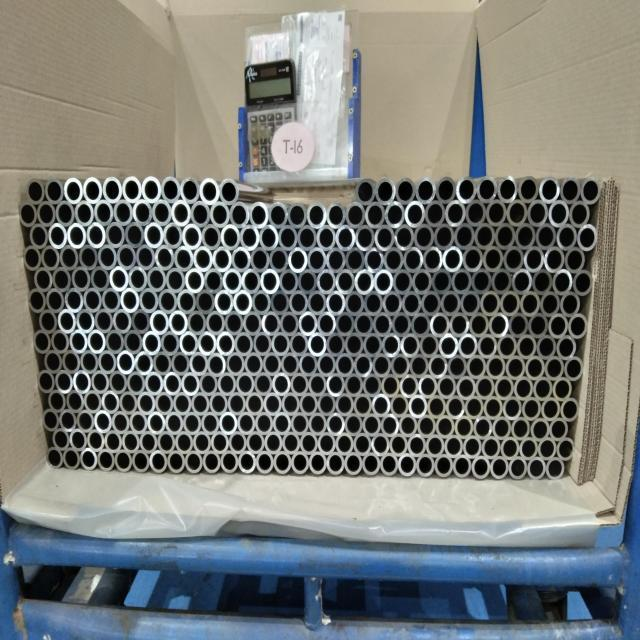pipe: (506, 198, 528, 228), (527, 198, 549, 228), (548, 199, 570, 229), (535, 222, 557, 251), (556, 223, 578, 252), (543, 245, 565, 274), (517, 175, 539, 204), (538, 175, 560, 204), (435, 176, 457, 205), (569, 199, 590, 229), (405, 199, 426, 229), (454, 222, 475, 252), (576, 223, 597, 253), (560, 176, 581, 206), (445, 200, 467, 228), (482, 245, 504, 273), (476, 176, 498, 204), (465, 198, 486, 227), (486, 198, 507, 227), (425, 199, 446, 228), (190, 200, 211, 229), (385, 200, 406, 229), (365, 200, 386, 229), (287, 201, 308, 230), (495, 222, 516, 251), (474, 222, 495, 251), (434, 222, 455, 251), (515, 222, 536, 251), (414, 223, 435, 252), (394, 223, 415, 252), (374, 223, 395, 252), (462, 245, 483, 274), (442, 245, 463, 274), (503, 245, 524, 274), (523, 245, 544, 274), (564, 246, 585, 275), (497, 175, 518, 204), (456, 176, 477, 205), (581, 176, 602, 205), (415, 176, 436, 205), (395, 177, 416, 206), (375, 177, 396, 206), (355, 176, 375, 206), (25, 177, 45, 207), (422, 246, 443, 274), (532, 268, 553, 296), (460, 289, 481, 317), (480, 289, 501, 317), (133, 198, 153, 227), (171, 198, 191, 227), (94, 198, 114, 227), (74, 199, 94, 228), (55, 199, 75, 228), (210, 200, 230, 229), (125, 220, 145, 249), (355, 223, 375, 252), (573, 268, 593, 297), (122, 175, 142, 204), (103, 175, 123, 204), (141, 175, 161, 204), (161, 176, 181, 205), (63, 176, 83, 205), (219, 177, 239, 206), (451, 268, 472, 295), (491, 268, 512, 295), (511, 268, 532, 295), (500, 290, 521, 317), (520, 290, 541, 317), (468, 311, 489, 338), (449, 312, 470, 339), (508, 312, 529, 339), (548, 313, 569, 340), (567, 313, 588, 340), (516, 333, 537, 360), (556, 335, 577, 362), (544, 355, 565, 382), (564, 356, 585, 383), (152, 199, 172, 227), (114, 199, 134, 227), (229, 201, 249, 229), (346, 201, 366, 229), (268, 201, 288, 229), (307, 201, 327, 229), (326, 201, 346, 229), (105, 221, 125, 249), (144, 221, 164, 249), (163, 222, 183, 250), (67, 222, 87, 250), (29, 222, 49, 250), (182, 223, 202, 251), (240, 224, 260, 252), (259, 224, 279, 252), (278, 224, 298, 252), (317, 224, 337, 252), (335, 224, 355, 252), (117, 243, 137, 271), (155, 244, 175, 272), (193, 245, 213, 273), (250, 246, 270, 274), (326, 246, 346, 274), (383, 246, 403, 274), (364, 247, 384, 275), (128, 265, 148, 293), (441, 289, 461, 317), (540, 290, 560, 318), (560, 291, 580, 319), (528, 312, 548, 340), (497, 333, 517, 361), (83, 176, 103, 204), (180, 177, 200, 205), (199, 177, 219, 205), (201, 223, 221, 250), (212, 246, 232, 273), (403, 246, 423, 273), (288, 247, 308, 274), (345, 247, 365, 274), (90, 265, 110, 292), (165, 267, 185, 294), (204, 267, 224, 294), (241, 268, 261, 295), (432, 268, 452, 295), (472, 268, 492, 295), (298, 268, 318, 295), (412, 268, 432, 295), (335, 268, 355, 295), (553, 269, 573, 296), (157, 288, 177, 315), (177, 288, 197, 315), (364, 290, 384, 317), (402, 290, 422, 317), (421, 290, 441, 317), (187, 310, 207, 337), (430, 311, 450, 338), (489, 311, 509, 338), (477, 333, 497, 360), (536, 334, 556, 361), (486, 354, 506, 381), (505, 354, 525, 381), (37, 200, 56, 228), (249, 201, 268, 229), (87, 221, 106, 249), (221, 223, 240, 251), (298, 224, 317, 252), (79, 243, 98, 271), (41, 244, 60, 272), (232, 245, 251, 273), (270, 246, 289, 274), (147, 265, 166, 293), (52, 265, 71, 293), (45, 177, 64, 205), (174, 246, 194, 272), (185, 268, 205, 294), (223, 268, 243, 294), (393, 269, 413, 295), (355, 269, 375, 295), (64, 287, 84, 313), (326, 290, 346, 316), (411, 312, 431, 338), (419, 333, 439, 359), (447, 354, 467, 380), (502, 395, 522, 421), (522, 396, 542, 422), (541, 397, 561, 423), (511, 416, 531, 442), (48, 222, 67, 249), (98, 244, 117, 271), (136, 244, 155, 271), (60, 244, 79, 271), (307, 247, 326, 274), (72, 265, 91, 292), (110, 265, 129, 292), (374, 268, 393, 295), (39, 308, 58, 335), (76, 308, 95, 335), (113, 308, 132, 335), (132, 308, 151, 335), (150, 309, 169, 336), (392, 311, 411, 338), (142, 329, 161, 356), (326, 331, 345, 358), (363, 331, 382, 358), (459, 333, 478, 360), (553, 376, 572, 403), (24, 244, 42, 272), (372, 353, 392, 378), (409, 354, 429, 379), (525, 356, 545, 381), (362, 373, 382, 398), (399, 374, 419, 399), (437, 375, 457, 400), (456, 375, 476, 400), (495, 376, 515, 401), (533, 376, 553, 401), (445, 395, 465, 420), (261, 268, 280, 294), (279, 268, 298, 294), (317, 269, 336, 295), (83, 287, 102, 313), (46, 288, 65, 314), (102, 288, 121, 314), (121, 288, 140, 314), (139, 288, 158, 314), (196, 289, 215, 315), (215, 289, 234, 315), (233, 290, 252, 316), (252, 290, 271, 316), (270, 290, 289, 316), (289, 290, 308, 316), (308, 290, 327, 316), (345, 290, 364, 316), (383, 290, 402, 316), (58, 308, 77, 334), (94, 308, 113, 334), (299, 311, 318, 337), (336, 311, 355, 337), (69, 328, 88, 354), (105, 329, 124, 355), (179, 330, 198, 356), (216, 331, 235, 357), (253, 331, 272, 357), (290, 331, 309, 357), (382, 332, 401, 358), (401, 333, 420, 359), (439, 333, 458, 359), (171, 351, 190, 377), (189, 351, 208, 377), (467, 354, 486, 380), (37, 370, 56, 396), (90, 370, 109, 396), (73, 370, 92, 396), (145, 371, 164, 397), (418, 374, 437, 400), (514, 376, 533, 402), (263, 391, 282, 417), (416, 452, 435, 478), (453, 454, 472, 480), (527, 456, 546, 482), (546, 456, 565, 482), (483, 396, 503, 420), (454, 416, 474, 440), (492, 416, 512, 440), (18, 202, 37, 227), (28, 289, 47, 314), (169, 311, 188, 336), (206, 311, 225, 336), (243, 311, 262, 336), (262, 311, 281, 336), (280, 311, 299, 336), (317, 311, 336, 336), (354, 312, 373, 337), (373, 312, 392, 337), (51, 329, 70, 354), (87, 329, 106, 354), (33, 329, 52, 354), (124, 330, 143, 355), (161, 331, 180, 356), (198, 331, 217, 356), (271, 331, 290, 356), (234, 331, 253, 356), (308, 332, 327, 357), (345, 332, 364, 357), (44, 349, 63, 374), (62, 350, 81, 375), (80, 350, 99, 375), (98, 350, 117, 375), (116, 350, 135, 375), (134, 351, 153, 376), (153, 351, 172, 376), (244, 352, 263, 377), (263, 352, 282, 377), (207, 352, 226, 377), (226, 352, 245, 377), (299, 352, 318, 377), (336, 353, 355, 378), (391, 353, 410, 378), (429, 354, 448, 379), (55, 370, 74, 395), (181, 372, 200, 397), (199, 372, 218, 397), (218, 372, 237, 397), (236, 372, 255, 397), (254, 372, 273, 397), (290, 372, 309, 397), (308, 372, 327, 397), (326, 372, 345, 397), (344, 373, 363, 398), (381, 373, 400, 398), (475, 375, 494, 400), (119, 390, 138, 415), (137, 390, 156, 415), (155, 391, 174, 416), (191, 391, 210, 416), (209, 391, 228, 416), (228, 391, 247, 416), (245, 391, 264, 416), (299, 392, 318, 417), (390, 393, 409, 418), (372, 393, 391, 418), (408, 394, 427, 419), (465, 395, 484, 420), (561, 398, 580, 423), (129, 410, 148, 435), (165, 411, 184, 436), (255, 411, 274, 436), (290, 411, 309, 436), (399, 413, 418, 438), (473, 415, 492, 440), (531, 417, 550, 442), (220, 448, 239, 473), (167, 449, 186, 474), (150, 449, 169, 474), (238, 449, 257, 474), (202, 450, 221, 475), (273, 450, 292, 475), (184, 450, 203, 475), (255, 450, 274, 475), (291, 450, 310, 475), (308, 450, 327, 475), (380, 452, 399, 477), (398, 452, 417, 477), (435, 453, 454, 478), (490, 455, 509, 480), (472, 456, 491, 481), (508, 456, 527, 481), (109, 370, 127, 396), (127, 371, 146, 395), (163, 372, 182, 396), (173, 392, 192, 416), (335, 393, 354, 417), (353, 393, 372, 417), (183, 411, 202, 435), (201, 411, 220, 435), (308, 412, 327, 436), (326, 412, 345, 436), (362, 413, 381, 437), (436, 415, 455, 439), (34, 267, 52, 292), (225, 311, 243, 336), (281, 352, 299, 377), (318, 352, 336, 377), (354, 353, 372, 378), (272, 372, 290, 397), (66, 389, 84, 414), (84, 389, 102, 414), (102, 389, 120, 414), (428, 395, 446, 420), (41, 408, 59, 433), (59, 408, 77, 433), (76, 408, 94, 433), (94, 409, 112, 434), (112, 409, 130, 434), (345, 412, 363, 437), (381, 413, 399, 438), (550, 416, 568, 441), (52, 427, 70, 452), (69, 427, 87, 452), (86, 429, 104, 454), (122, 430, 140, 455), (158, 430, 176, 455), (211, 430, 229, 455), (104, 430, 122, 455), (140, 430, 158, 455), (264, 430, 282, 455), (282, 430, 300, 455), (176, 430, 194, 455), (193, 430, 211, 455), (229, 430, 247, 455), (247, 431, 265, 456), (300, 431, 318, 456), (318, 431, 336, 456), (336, 431, 354, 456), (353, 432, 371, 457), (372, 433, 390, 458), (390, 433, 408, 458), (408, 433, 426, 458), (426, 433, 444, 458), (464, 434, 482, 459), (444, 434, 462, 459), (482, 436, 500, 461), (501, 436, 519, 461), (520, 436, 538, 461), (557, 436, 575, 461), (538, 436, 556, 461), (132, 449, 150, 474), (115, 449, 133, 474), (327, 451, 345, 476), (362, 451, 380, 476), (344, 452, 362, 477), (237, 412, 256, 435), (45, 447, 64, 470), (79, 448, 98, 471), (48, 390, 66, 414), (282, 392, 300, 416), (318, 392, 336, 416), (97, 448, 115, 472), (274, 411, 291, 436), (148, 412, 166, 435), (220, 412, 238, 435), (418, 415, 436, 438), (63, 448, 81, 471)
